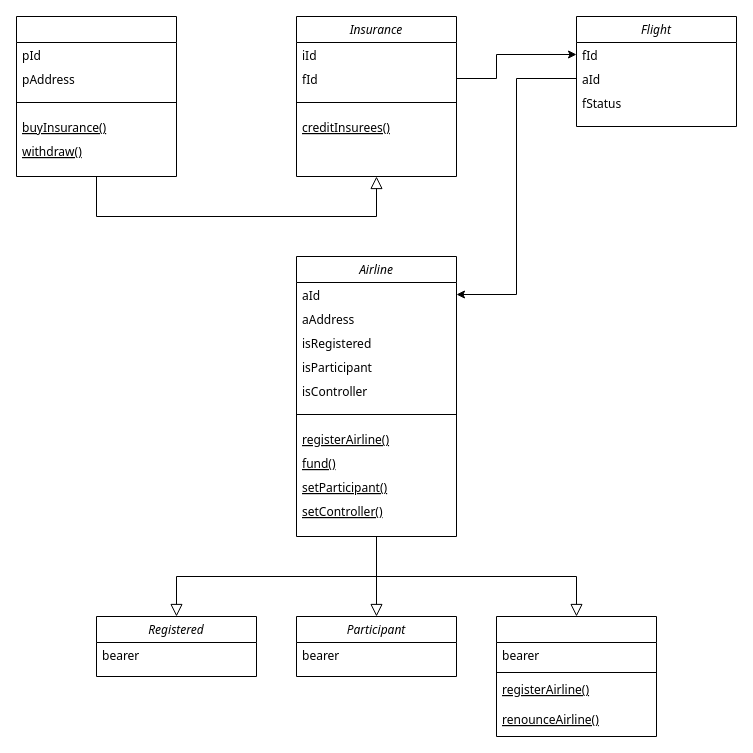
Image size: 753x753. Some labels were removed from this diagram. Here are the shapes that lost their labels. From the top down, the box of each, then its label:
(16, 16, 176, 176): Passenger
(496, 616, 656, 736): Controller
